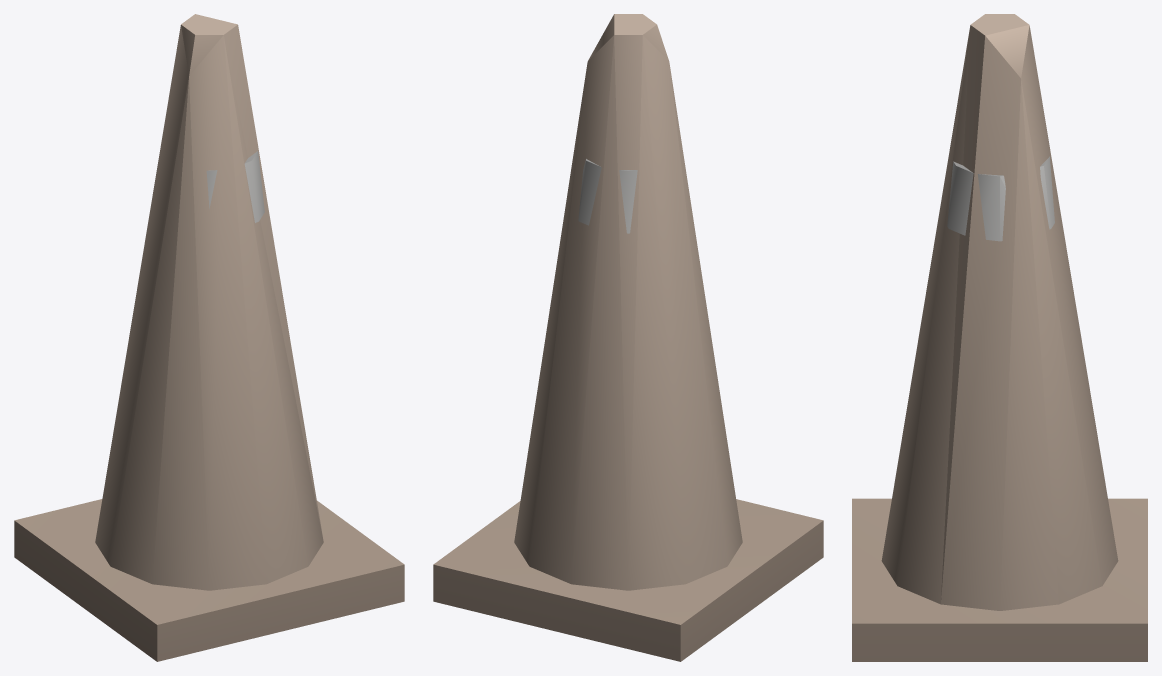
3 views of the same model, side by side, from view 1: azimuth 30°, elevation 25°; view 2: azimuth 150°, elevation 25°; view 3: azimuth 270°, elevation 25° (orthographic). The views are drawn at different scales.
Size of the model in its own units: 0.35 by 0.75 by 0.35.
